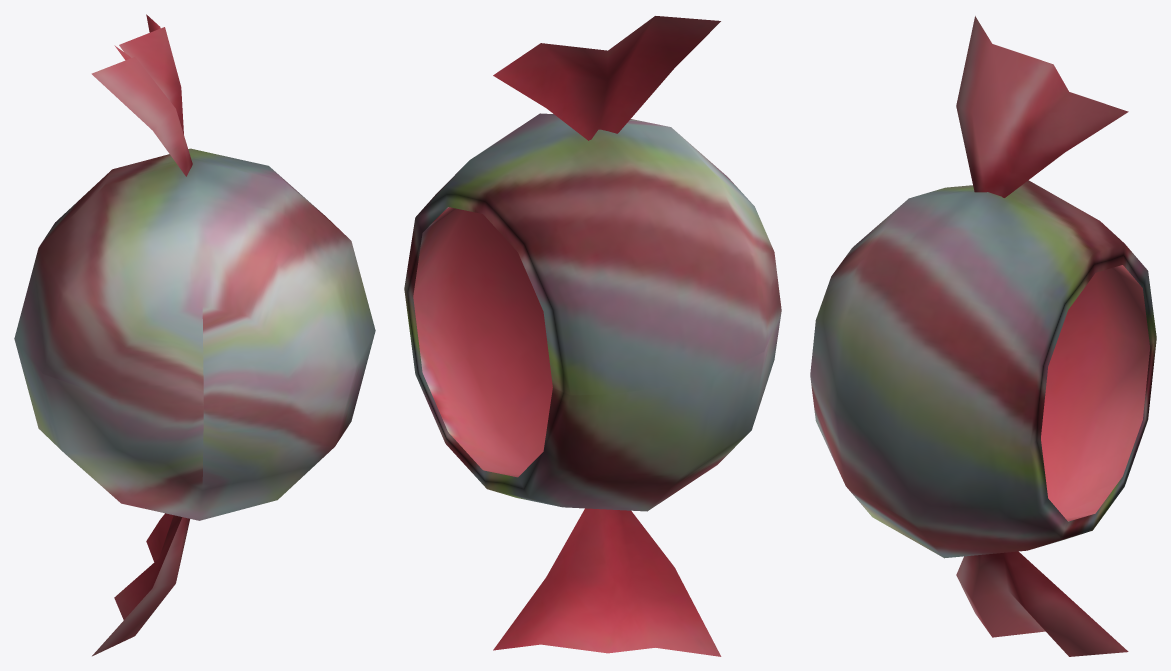
Rendered from candyHat.glb.
The picture shows the model from 3 angles, left to right: view 1: azimuth 30°, elevation 25°; view 2: azimuth 150°, elevation 25°; view 3: azimuth 270°, elevation 25°; orthographic projection. The views are drawn at different scales.
Visible parts, largest first — view 1: candyHat; view 2: candyHat; view 3: candyHat.
Part boxes in pixels (x1,y1,x2,y2): candyHat: (14,14,375,656); candyHat: (404,16,781,656); candyHat: (810,16,1156,656).
Bounding box in the file's own units: 0.3532 × 0.6379 × 0.3354.
1 material, 1 textured.
